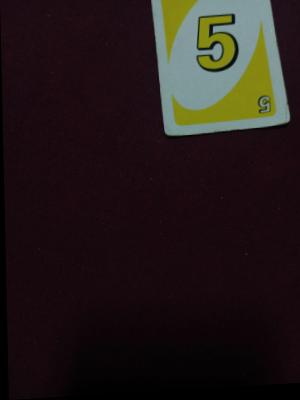num_5: (184, 8, 248, 94), (220, 92, 275, 123)
